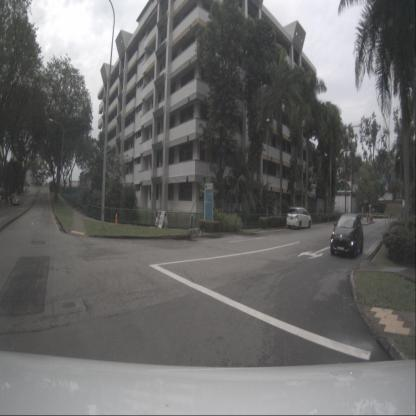movable_object-trafficcone: (114, 212, 119, 226)
vehicle-car: (330, 215, 364, 258), (286, 207, 312, 229), (12, 196, 20, 206)
